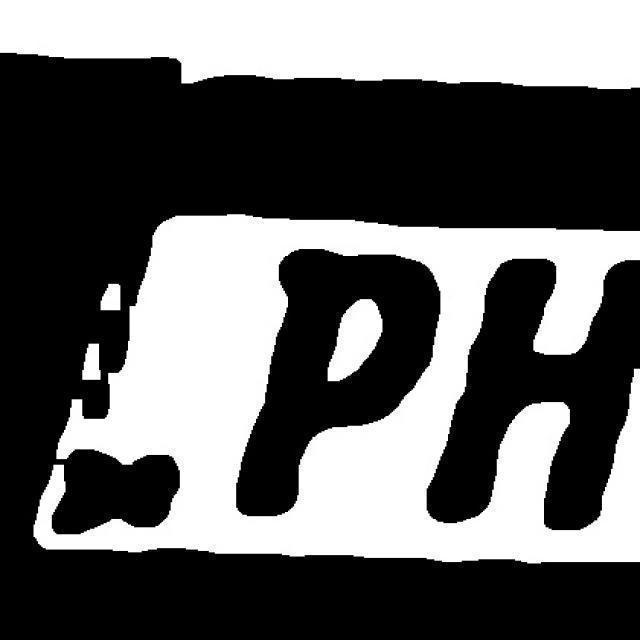h: (421, 252, 638, 530)
p: (234, 237, 443, 524)
